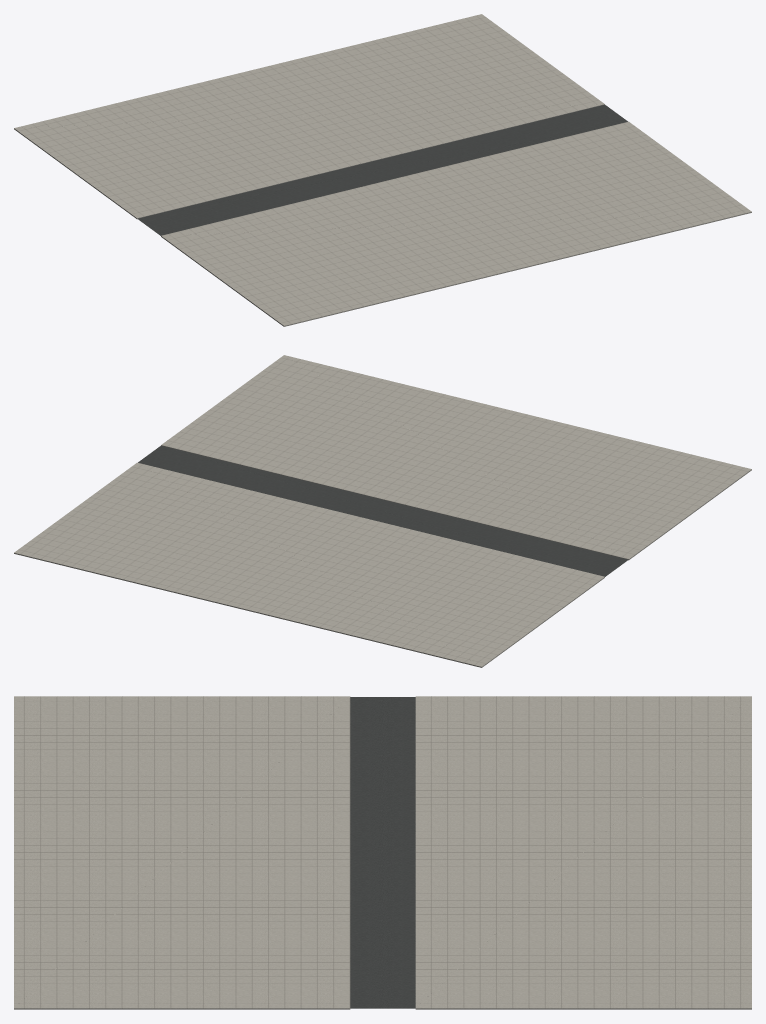
The model's file is alley_block_68.glb.
3 views of the same model, one above another, from view 1: azimuth 30°, elevation 25°; view 2: azimuth 150°, elevation 25°; view 3: azimuth 270°, elevation 25° (orthographic). The views are drawn at different scales.
Parts seen in each view (by area): view 1: alley_block_68; view 2: alley_block_68; view 3: alley_block_68.
Boxes of the visible parts, left/top/right/bottom form: alley_block_68: left=14, top=14, right=751, bottom=326; alley_block_68: left=14, top=355, right=751, bottom=667; alley_block_68: left=14, top=696, right=751, bottom=1009.
Size of the model in its own units: 68 by 0.15 by 68.
3 materials, 3 textured.
